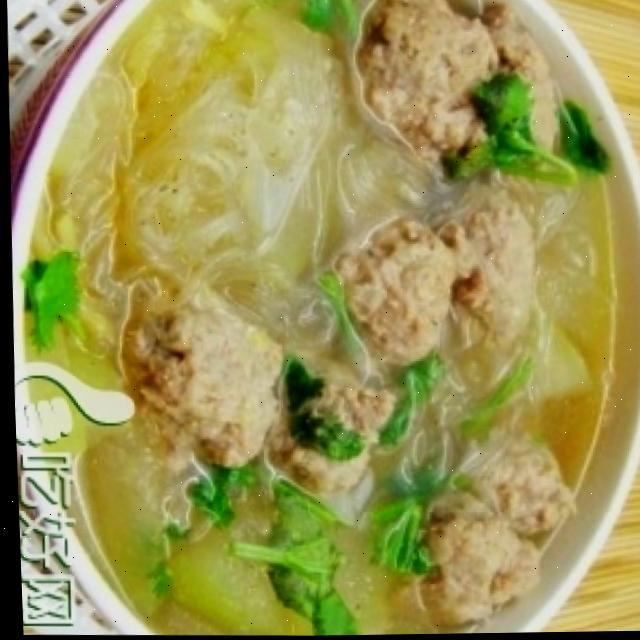汤锅炖物: (21, 0, 640, 636)
